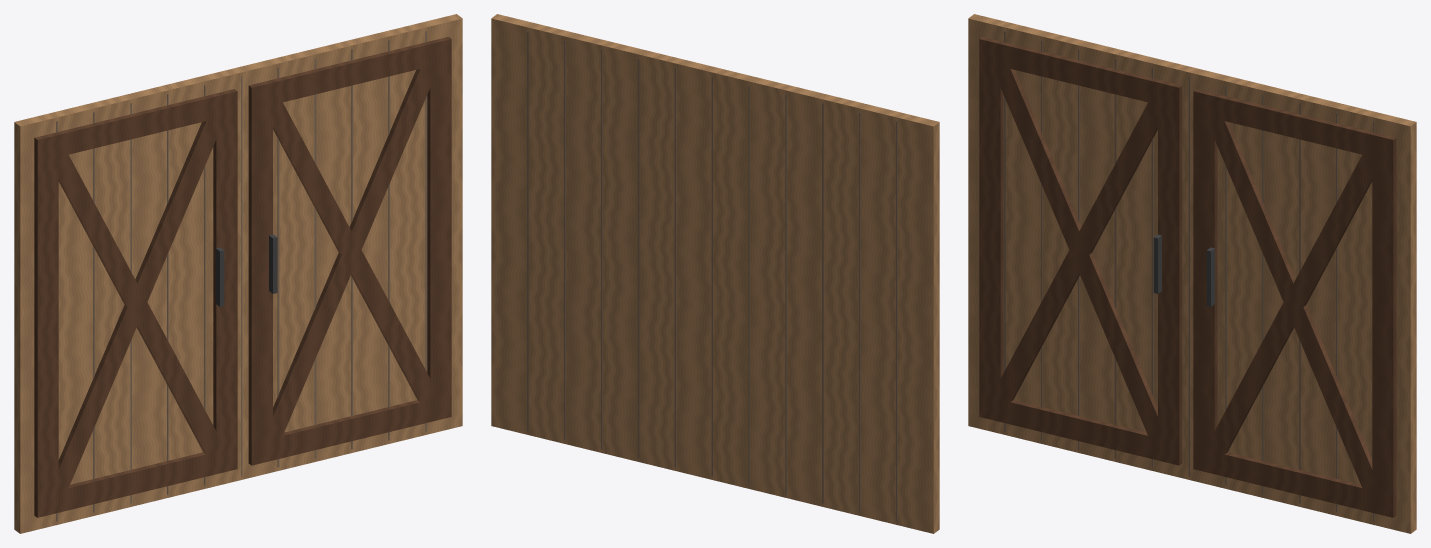
File: mlo_garage_door_wood.glb
3 renders of one model, left to right at view 1: azimuth 30°, elevation 25°; view 2: azimuth 150°, elevation 25°; view 3: azimuth 330°, elevation 25°, orthographic.
Parts seen in each view (by area): view 1: Garage_Door_Wood; view 2: Garage_Door_Wood; view 3: Garage_Door_Wood.
Part boxes in pixels (x1=…): Garage_Door_Wood: x1=14, y1=14, x2=462, y2=533; Garage_Door_Wood: x1=491, y1=14, x2=939, y2=533; Garage_Door_Wood: x1=968, y1=14, x2=1416, y2=533.
Size of the model in its own units: 2.5 by 2.2 by 0.132.
4 materials, 2 textured.
